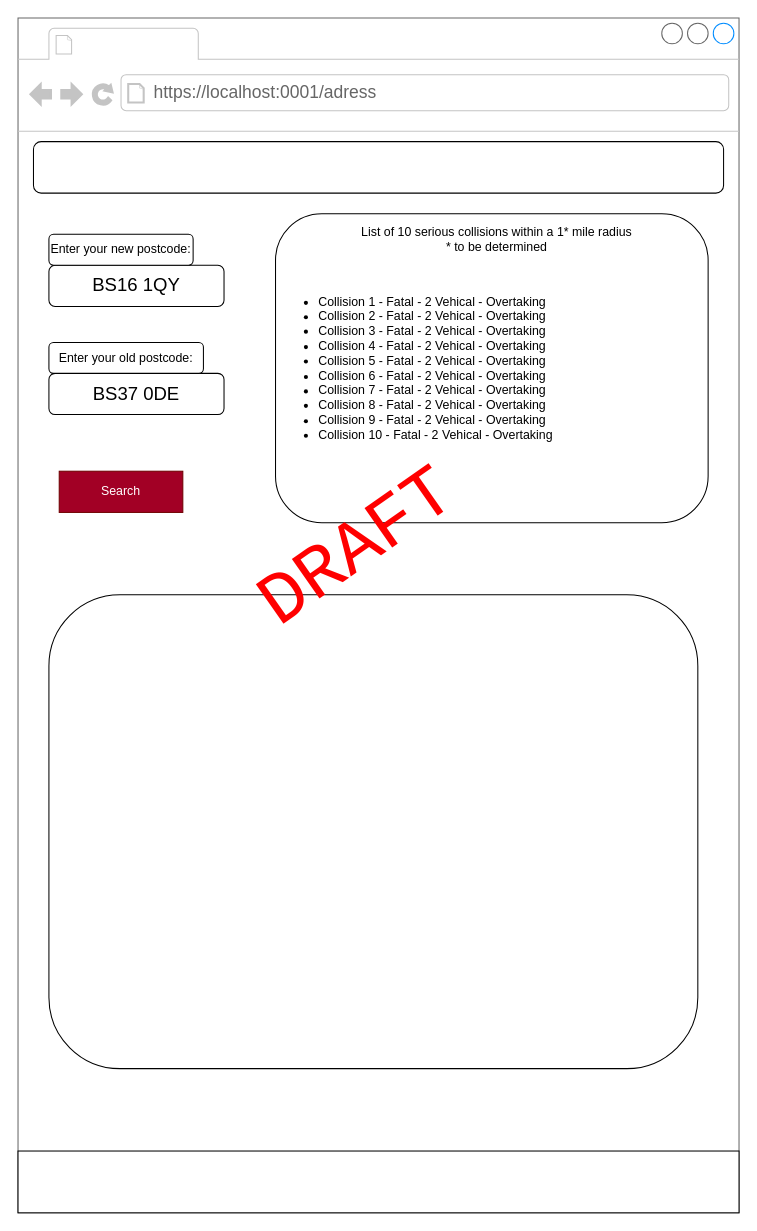
The diagram is 757 pixels wide and 1231 high, and some of its shapes have lost their labels. The shapes that lost their labels are listed below. From the top down, each one's centre as x and y in pixels, then its label:
At pixel 136 43: "Address co...".
At pixel 378 167: "Menu bar".
At pixel 373 831: "Visual map of collisions".
At pixel 378 1181: "Contact infomation bar".
